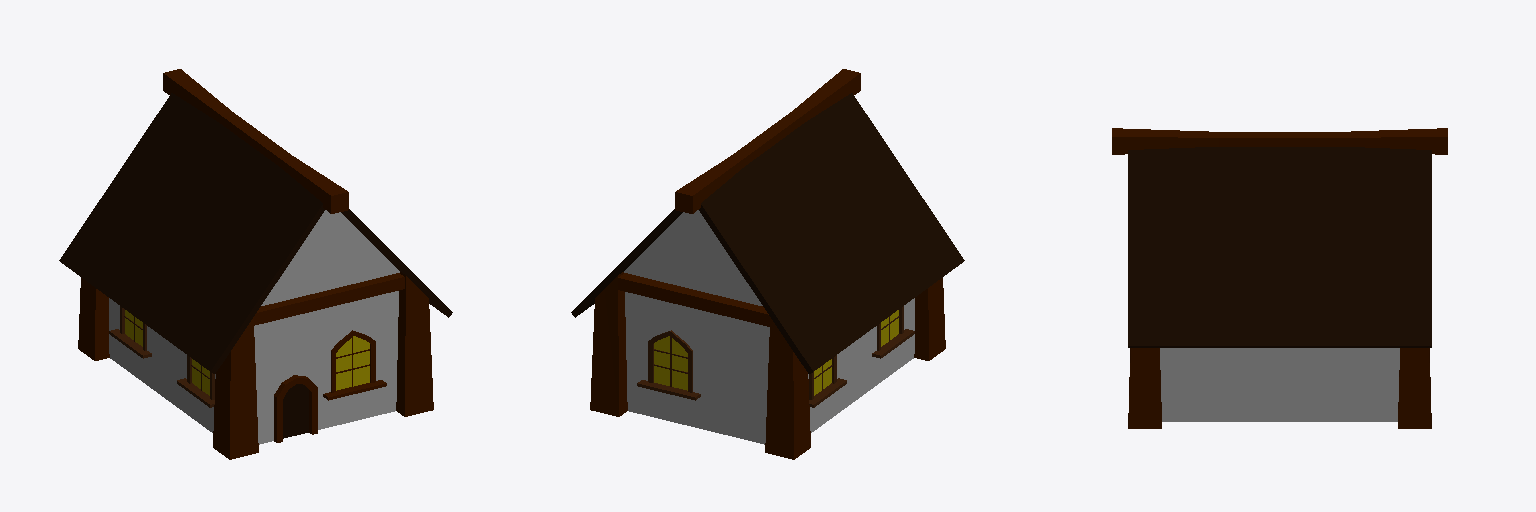
Rendered from inn_1.obj.
The picture shows the model from 3 angles: view 1: azimuth 30°, elevation 25°; view 2: azimuth 150°, elevation 25°; view 3: azimuth 270°, elevation 25°; orthographic projection.
Parts seen in each view (by area): view 1: Plane.001_Plane.006; view 2: Plane.001_Plane.006; view 3: Plane.001_Plane.006.
Part boxes in pixels (x1,y1,x2,y2): Plane.001_Plane.006: (59,69,452,459); Plane.001_Plane.006: (571,69,964,459); Plane.001_Plane.006: (1112,128,1447,428).
Bounding box in the file's own units: 4.16 × 4.05 × 5.